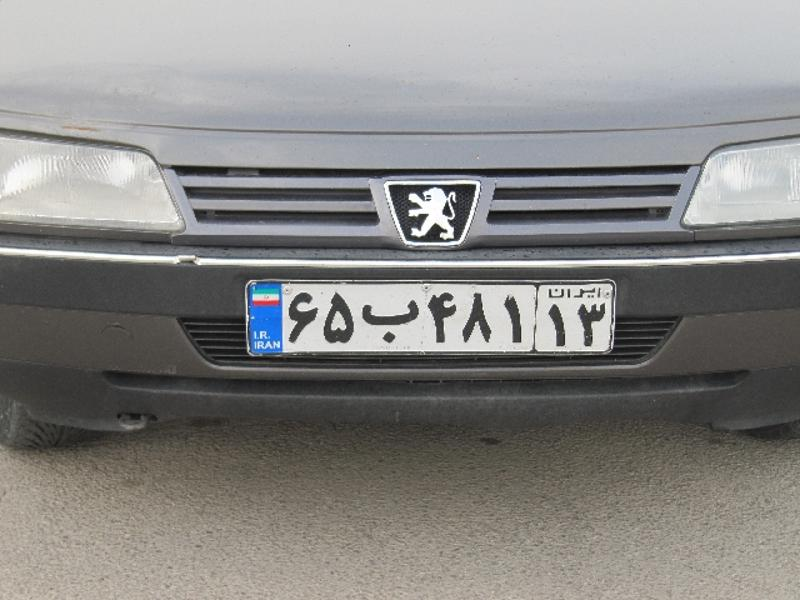Plate: (227, 260, 630, 367)
